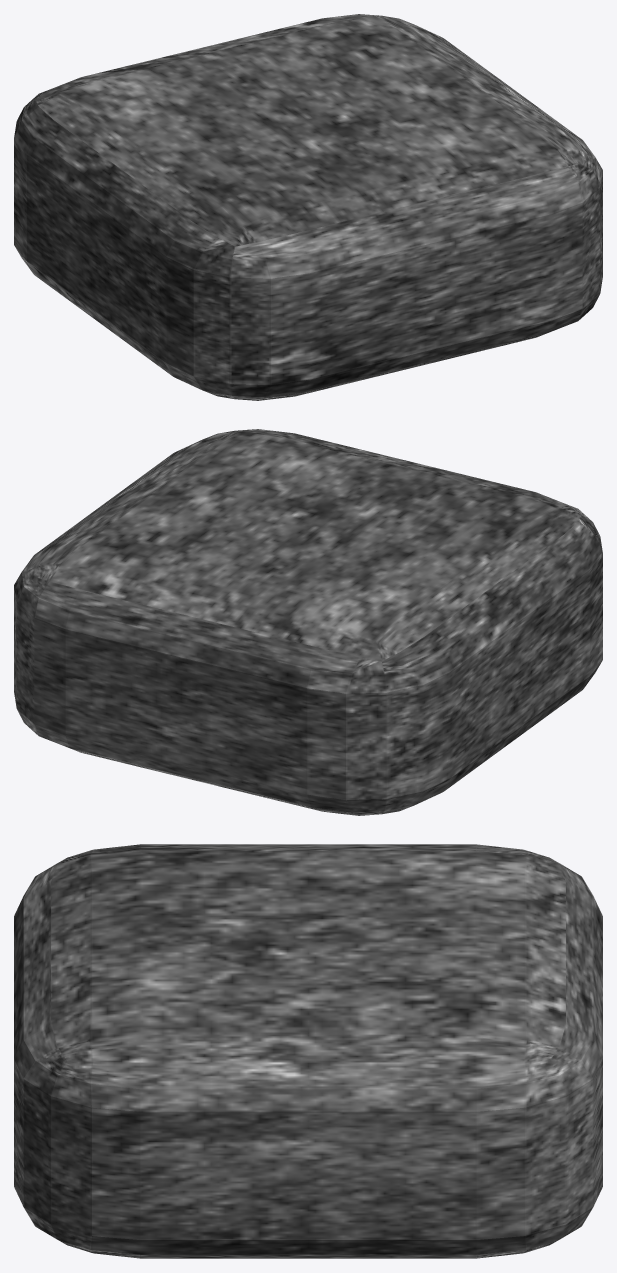
File: newStone.fbx
3 views of the same model, one above another, from view 1: azimuth 30°, elevation 25°; view 2: azimuth 150°, elevation 25°; view 3: azimuth 270°, elevation 25° (orthographic). The views are drawn at different scales.
Parts seen in each view (by area): view 1: Cube; view 2: Cube; view 3: Cube.
Part boxes in pixels (x1,y1,x2,y2): Cube: (14, 14, 602, 400); Cube: (14, 429, 602, 815); Cube: (14, 844, 602, 1258).
Size of the model in its own units: 200 by 84.19 by 200.
Materials: 1 (1 with a texture image).
